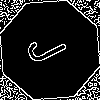J: (25, 25, 77, 68)
